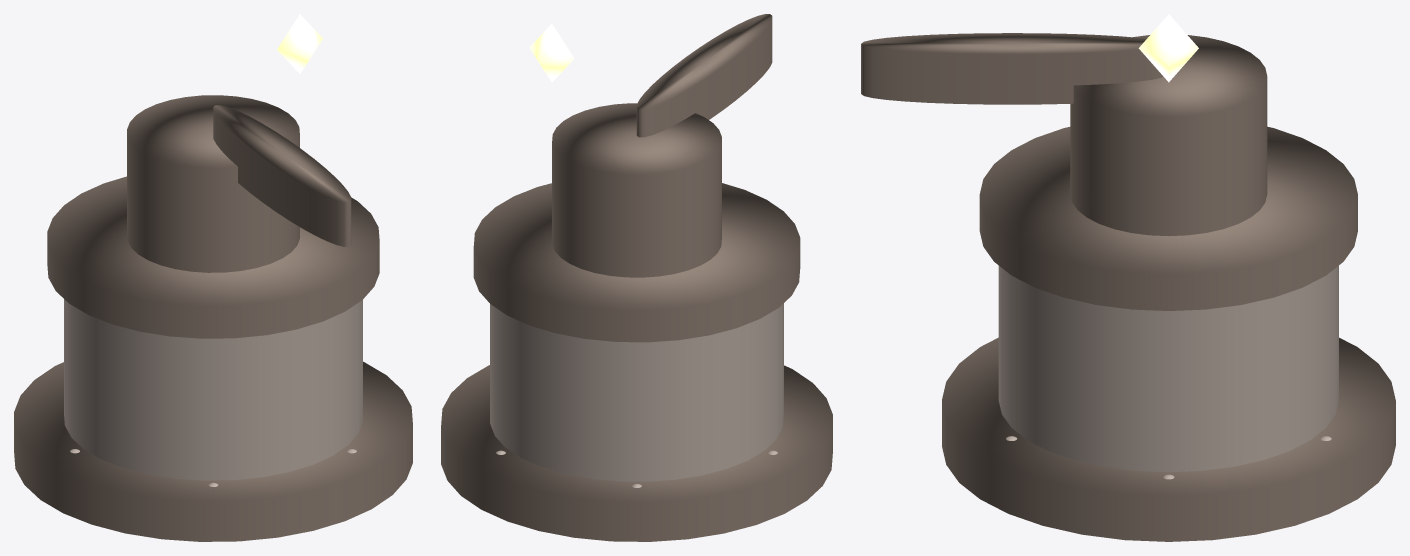
File: sentinel_l2.glb
The picture shows the model from 3 angles, left to right: view 1: azimuth 30°, elevation 25°; view 2: azimuth 150°, elevation 25°; view 3: azimuth 270°, elevation 25°; orthographic projection. The views are drawn at different scales.
Parts seen in each view (by area): view 1: base, footing, baseCollar, shaft, barrel, spinCrystal; view 2: base, footing, baseCollar, shaft, barrel, spinCrystal; view 3: base, footing, baseCollar, shaft, barrel, spinCrystal.
Part boxes in pixels (x1=…): base: x1=64, y1=299, x2=362, y2=480; footing: x1=14, y1=361, x2=412, y2=541; baseCollar: x1=47, y1=176, x2=379, y2=338; shaft: x1=127, y1=95, x2=299, y2=272; barrel: x1=213, y1=105, x2=351, y2=246; spinCrystal: x1=277, y1=14, x2=322, y2=73; base: x1=490, y1=303, x2=783, y2=481; footing: x1=441, y1=365, x2=832, y2=541; baseCollar: x1=473, y1=183, x2=800, y2=342; shaft: x1=552, y1=103, x2=721, y2=277; barrel: x1=636, y1=14, x2=772, y2=137; spinCrystal: x1=529, y1=24, x2=574, y2=82; base: x1=998, y1=266, x2=1338, y2=472; footing: x1=942, y1=337, x2=1395, y2=541; baseCollar: x1=979, y1=126, x2=1357, y2=310; shaft: x1=1070, y1=35, x2=1267, y2=236; barrel: x1=861, y1=33, x2=1162, y2=104; spinCrystal: x1=1138, y1=14, x2=1198, y2=82.
Bounding box in the file's own units: 1.8 × 2.1 × 2.12.
